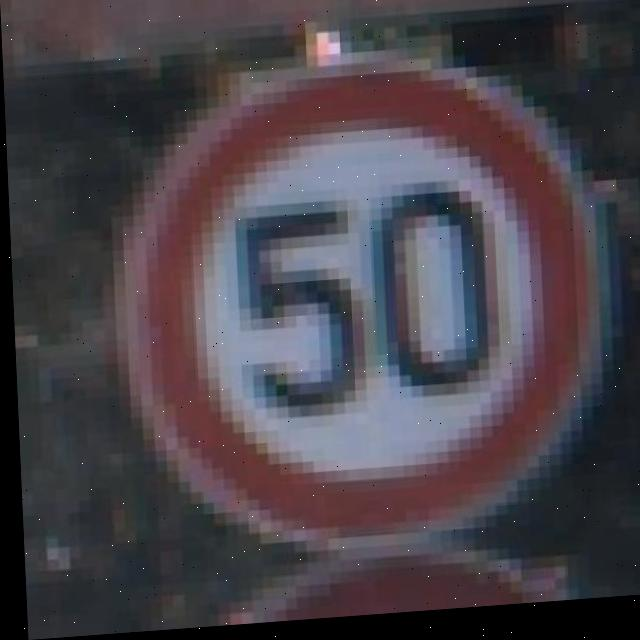Speed limit 50: (102, 53, 612, 563)
